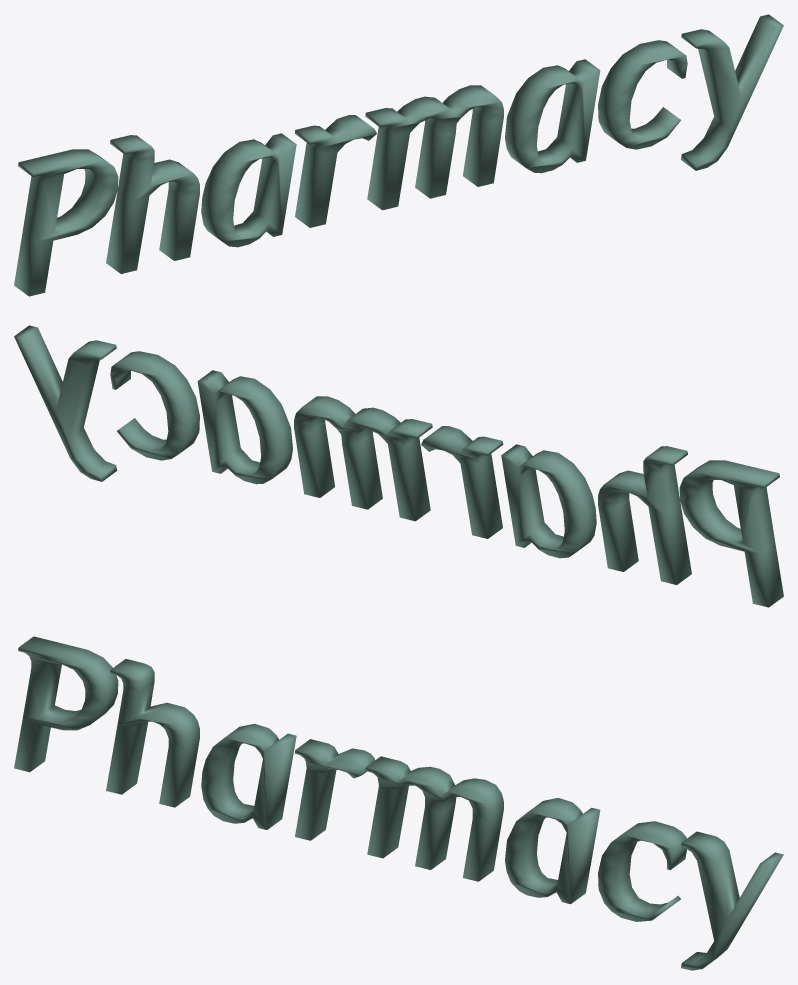
Rendered from Sign_Pharmacy.glb.
3 renders of one model, top to bottom at view 1: azimuth 30°, elevation 25°; view 2: azimuth 150°, elevation 25°; view 3: azimuth 330°, elevation 25°, orthographic.
Parts seen in each view (by area): view 1: Sign_Pharmacy; view 2: Sign_Pharmacy; view 3: Sign_Pharmacy.
Boxes of the visible parts, box(x1,y1,x2,y2) form: Sign_Pharmacy: box(14, 14, 783, 296); Sign_Pharmacy: box(14, 325, 783, 607); Sign_Pharmacy: box(14, 636, 783, 970).
Size of the model in its own units: 2.13 by 0.4284 by 0.0739.
1 material, 1 textured.
